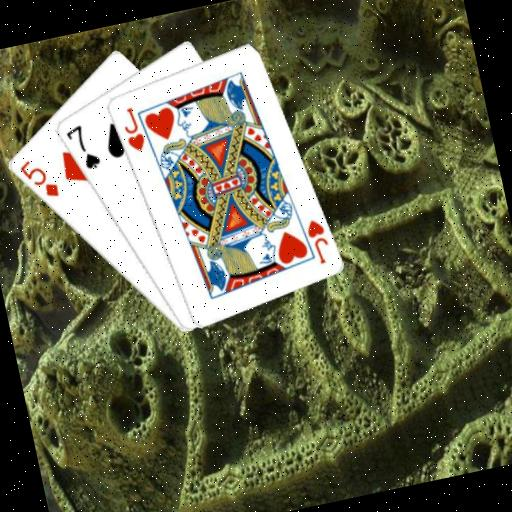5D: (14, 151, 61, 204)
7S: (61, 119, 103, 175)
JH: (300, 213, 333, 267), (116, 102, 148, 155)
